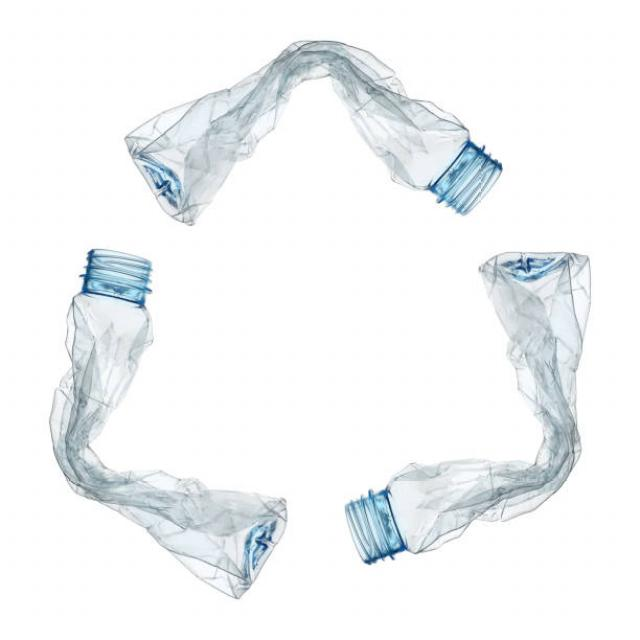plastic: (53, 253, 283, 600), (346, 253, 594, 562), (126, 40, 496, 218)
